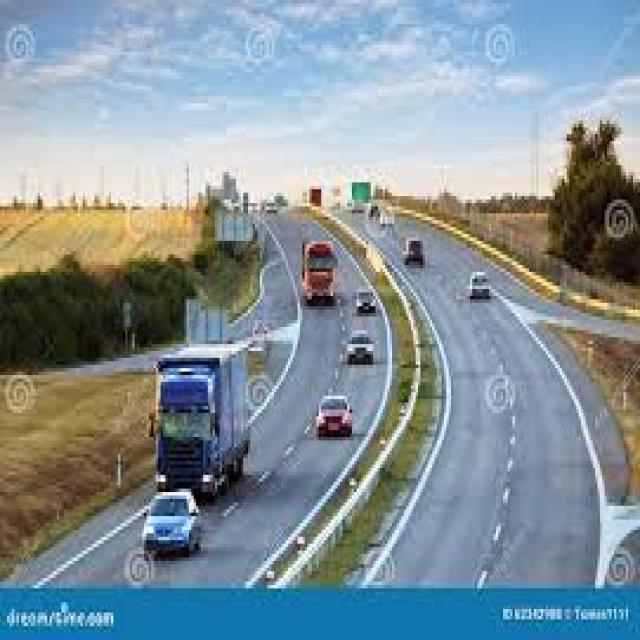no-low traffic: (136, 194, 498, 553)
